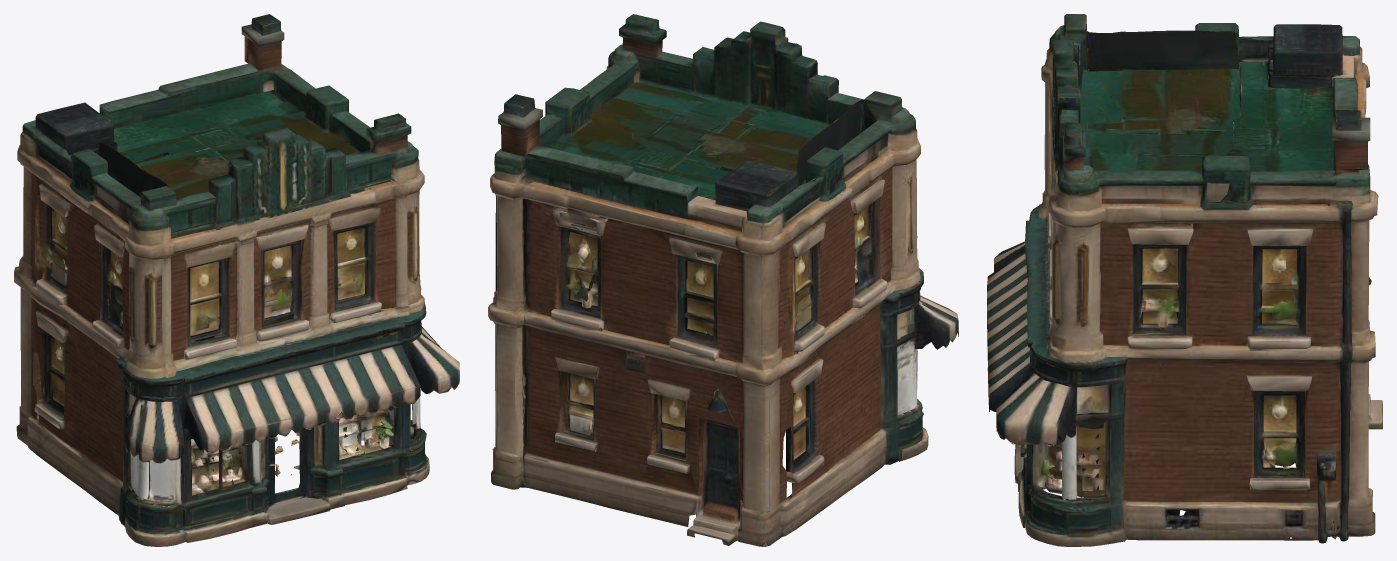
The model's file is candidate.glb.
3 views of the same model, side by side, from view 1: azimuth 30°, elevation 25°; view 2: azimuth 150°, elevation 25°; view 3: azimuth 270°, elevation 25° (orthographic). The views are drawn at different scales.
Parts seen in each view (by area): view 1: expansion__shop_2__native_mobile; view 2: expansion__shop_2__native_mobile; view 3: expansion__shop_2__native_mobile.
Part boxes in pixels (x1,y1,x2,y2): expansion__shop_2__native_mobile: [14, 14, 459, 546]; expansion__shop_2__native_mobile: [488, 14, 958, 546]; expansion__shop_2__native_mobile: [987, 14, 1382, 546].
Bounding box in the file's own units: 0.9128 × 1 × 0.8488.
1 material, 1 textured.
